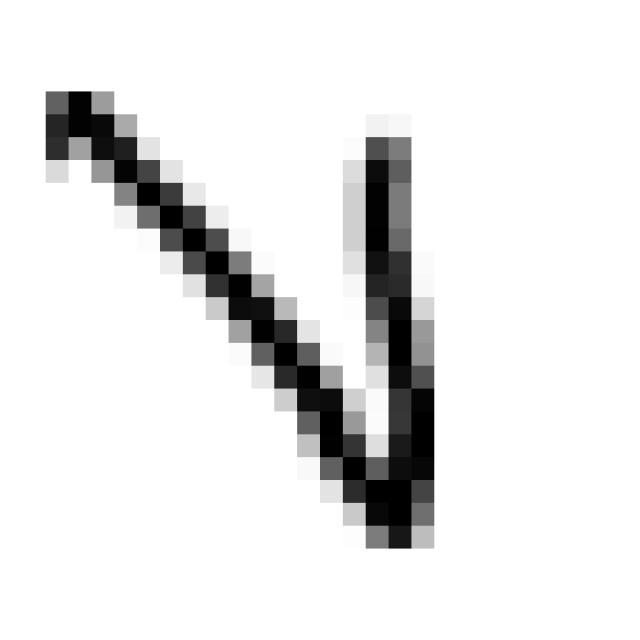7 -seven-: (21, 71, 452, 562)
